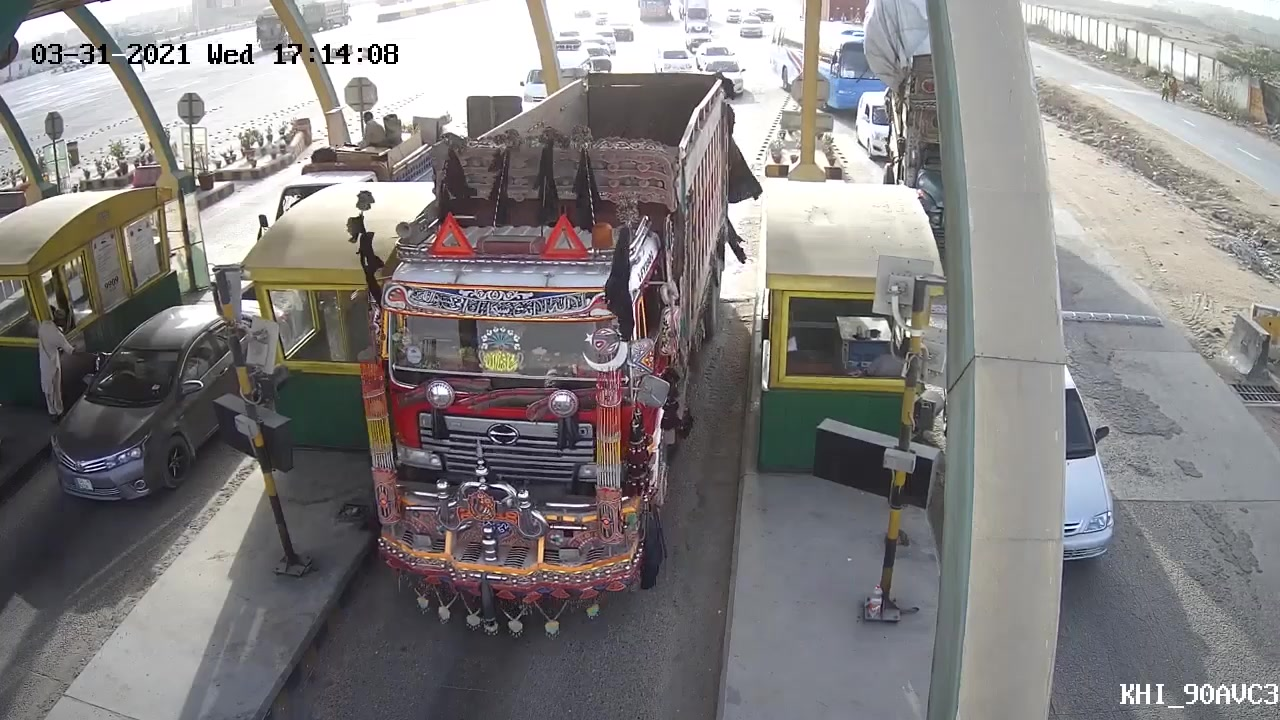F6: (356, 60, 747, 643)
